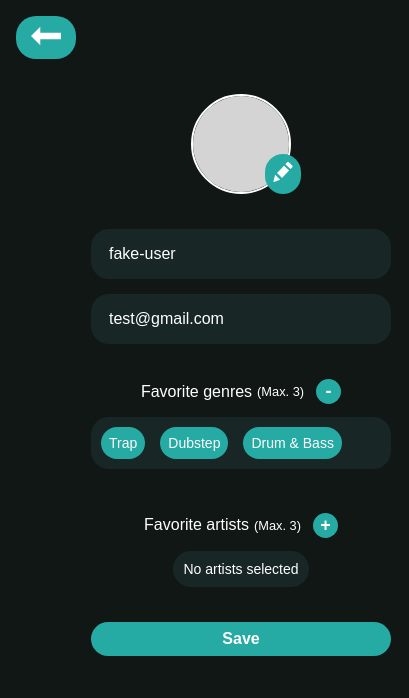
Test: EditProfileComponent › Affichage de la page d'édition du profil › Saisie dans le formulaire › devrait afficher une erreur lors de la saisie aa dans le champs
The width and height of the screenshot is (409, 698).
Clear the field with test id "edit-profile-input-username" at [241, 254], box [91,229,391,279]
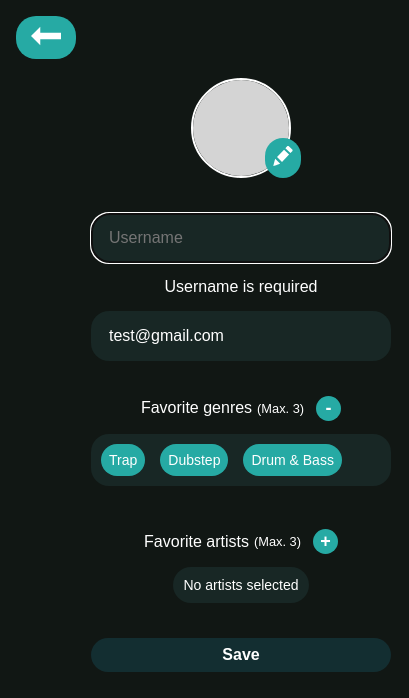
Type "aa" into the field with test id "edit-profile-input-username".
click(241, 238); type("aa")  # box [91,213,391,263]
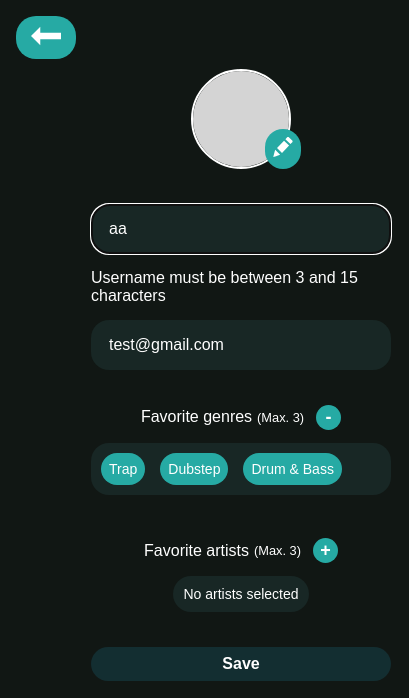
Check: the text "Username must be between 3 and 15 characters" is shown, box [91,269,391,305]
Check: the text with test id "edit-profile-error-text-username" reads "Username must be between 3 and 15 characters", box [91,269,358,304]
